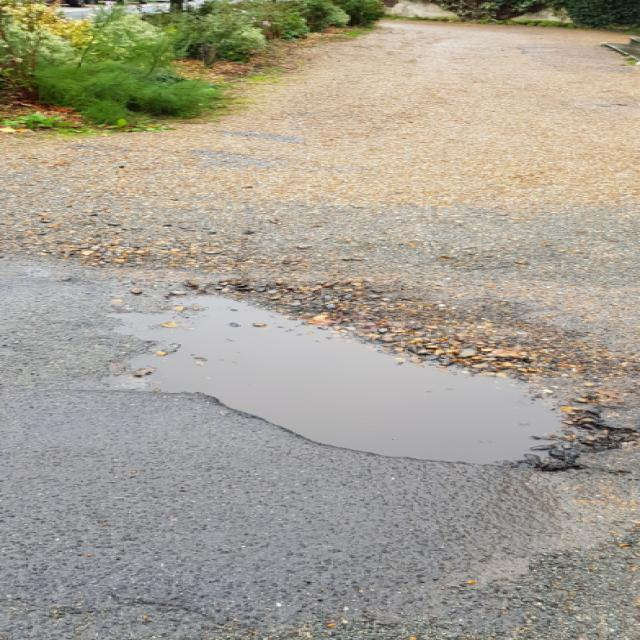pothole: (82, 280, 628, 476)
